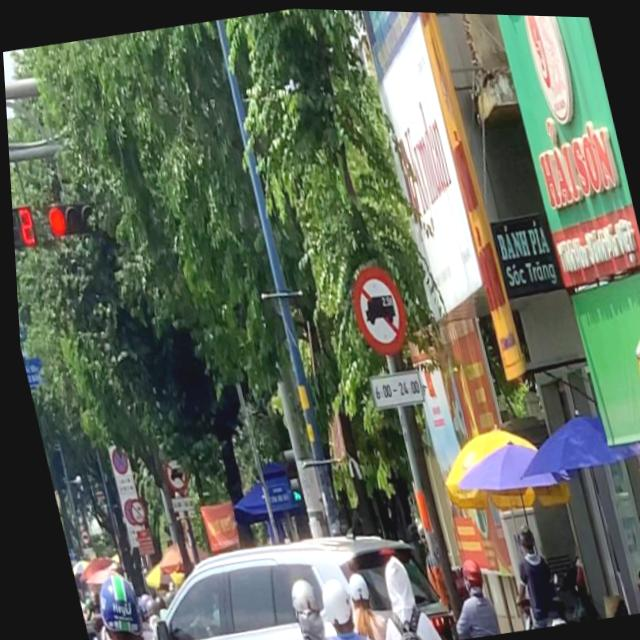Cam xe tai tren 2_5: (344, 260, 410, 353)
